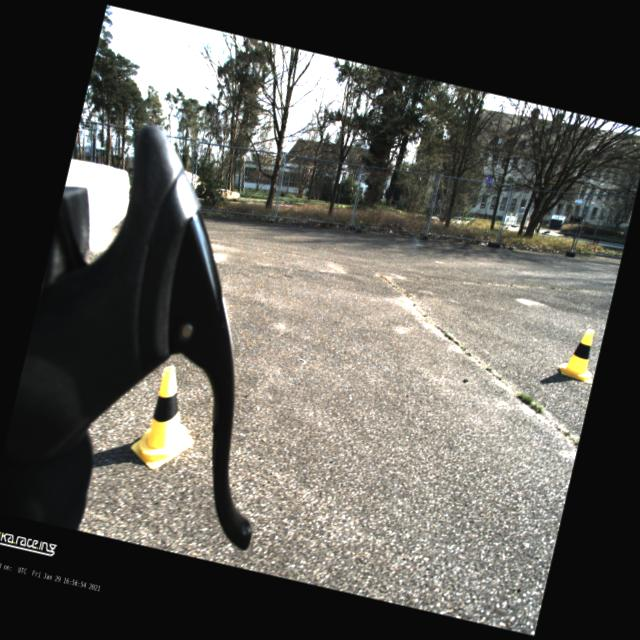yellow_cone: (126, 361, 210, 476), (556, 324, 603, 384)
